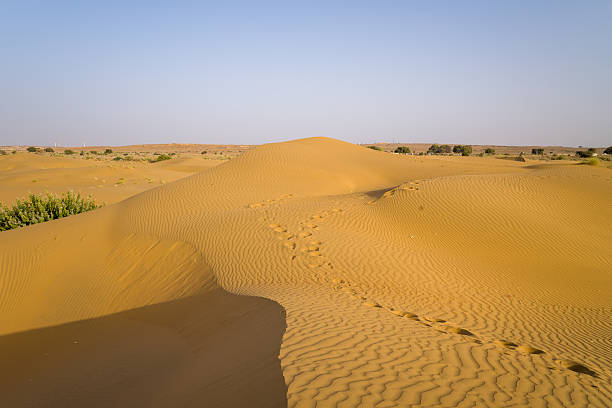human_foot_print: (270, 211, 545, 355), (332, 277, 484, 343)
